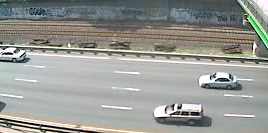car: (152, 101, 206, 125), (196, 70, 239, 92), (1, 45, 28, 64)
